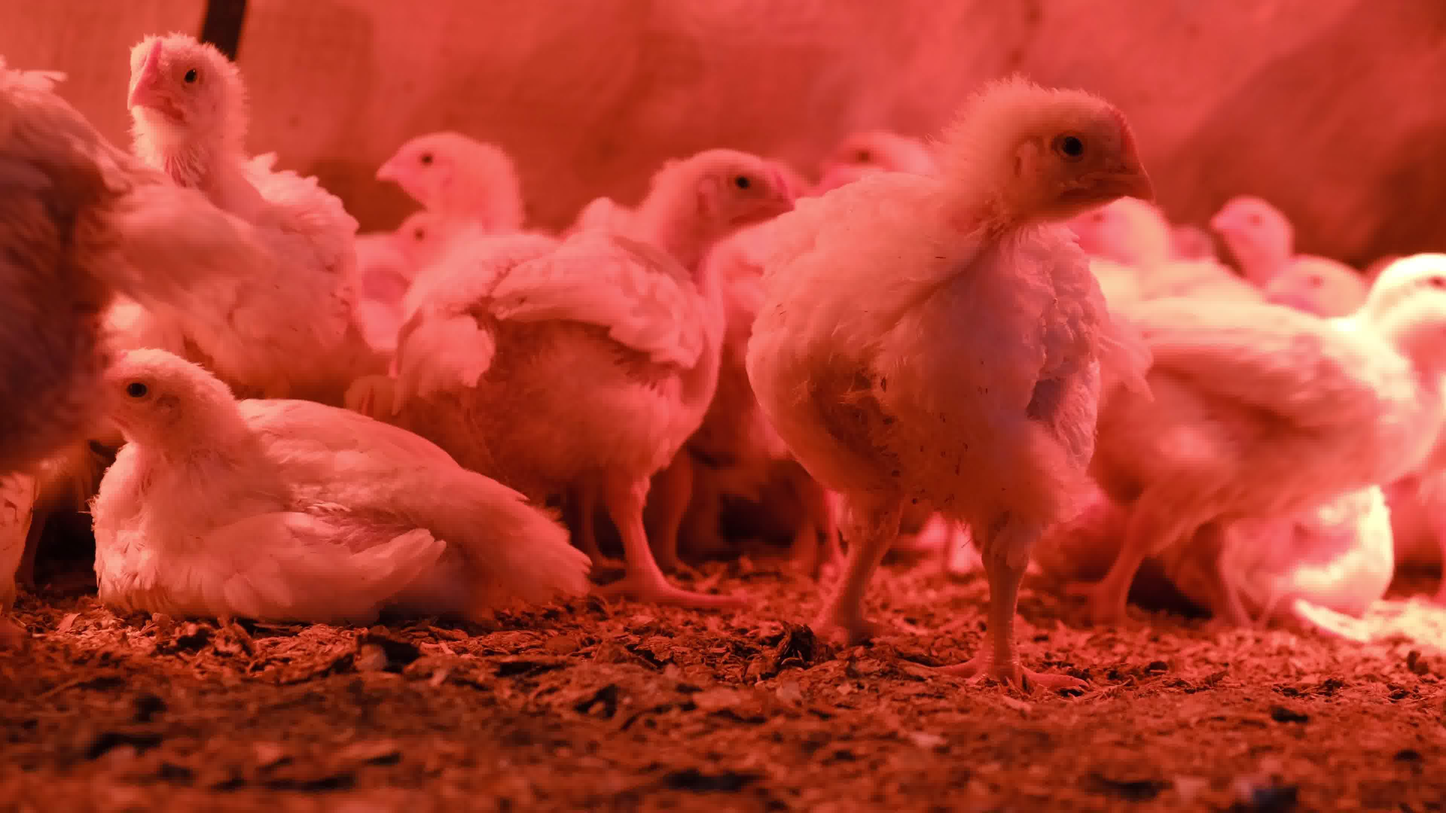AbNormal: (68, 348, 587, 638), (1154, 435, 1446, 651)
Normal: (738, 85, 1179, 691), (405, 145, 768, 612), (1117, 256, 1446, 608), (0, 21, 196, 559), (92, 13, 365, 341), (1130, 156, 1380, 318), (348, 115, 557, 248)
